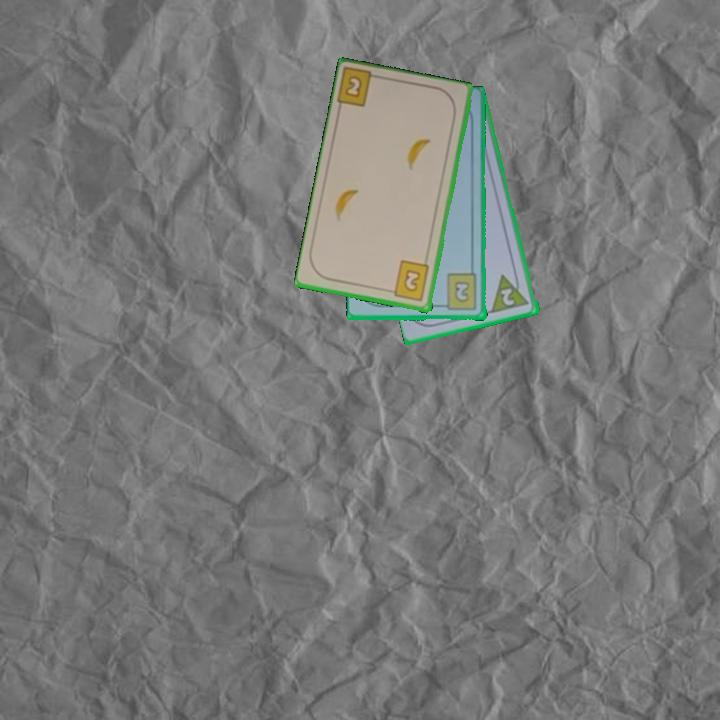2b: (335, 66, 385, 110), (385, 258, 432, 304), (438, 271, 480, 313)
2p: (489, 269, 532, 316)
